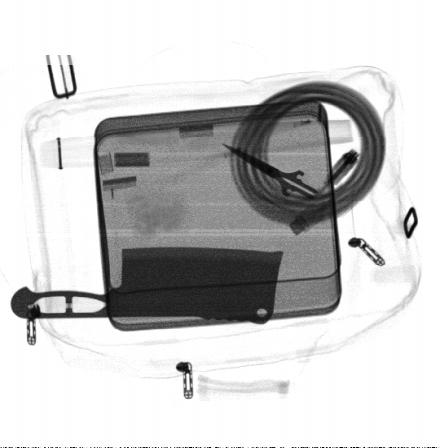Knife: (9, 246, 284, 325)
Scissors: (222, 142, 351, 228)
